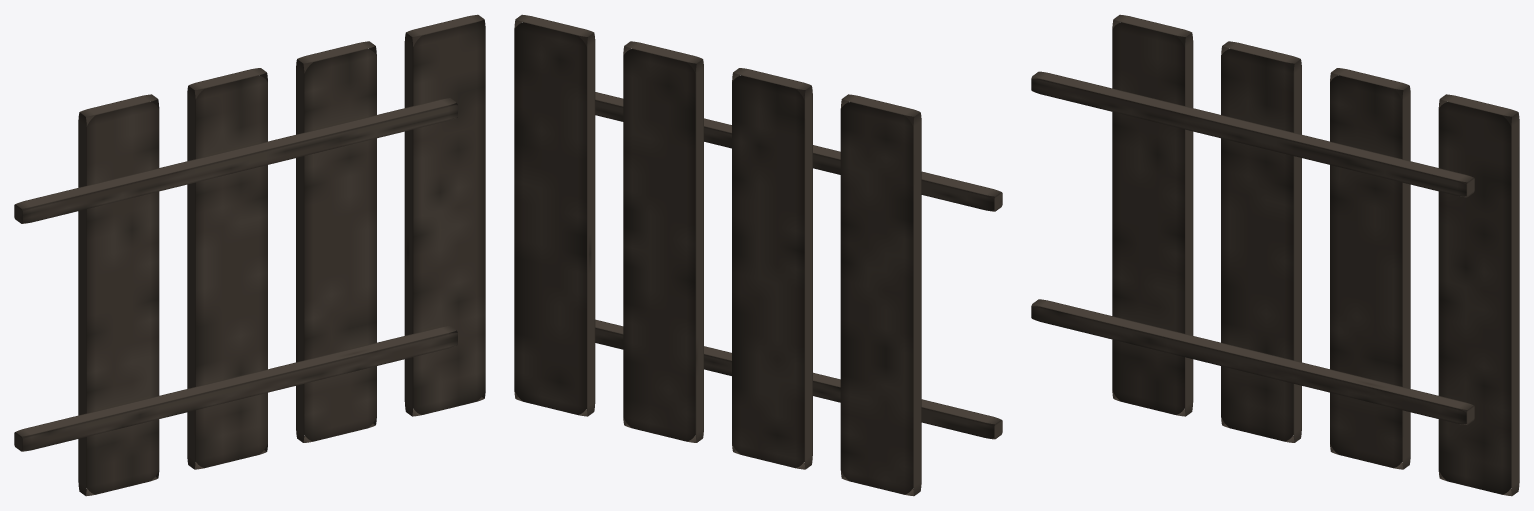
The model's file is fence_basic01.fbx.
3 renders of one model, left to right at view 1: azimuth 30°, elevation 25°; view 2: azimuth 150°, elevation 25°; view 3: azimuth 330°, elevation 25°, orthographic.
Parts seen in each view (by area): view 1: fence, fence_plank; view 2: fence, fence_plank; view 3: fence, fence_plank.
Part boxes in pixels (x1=…): fence: x1=14, y1=14, x2=485, y2=469; fence_plank: x1=78, y1=94, x2=159, y2=496; fence: x1=514, y1=14, x2=1002, y2=469; fence_plank: x1=840, y1=94, x2=921, y2=496; fence: x1=1031, y1=41, x2=1519, y2=496; fence_plank: x1=1112, y1=14, x2=1193, y2=416.
Size of the model in its own units: 40.62 by 31.25 by 2.5.
1 material, 1 textured.
